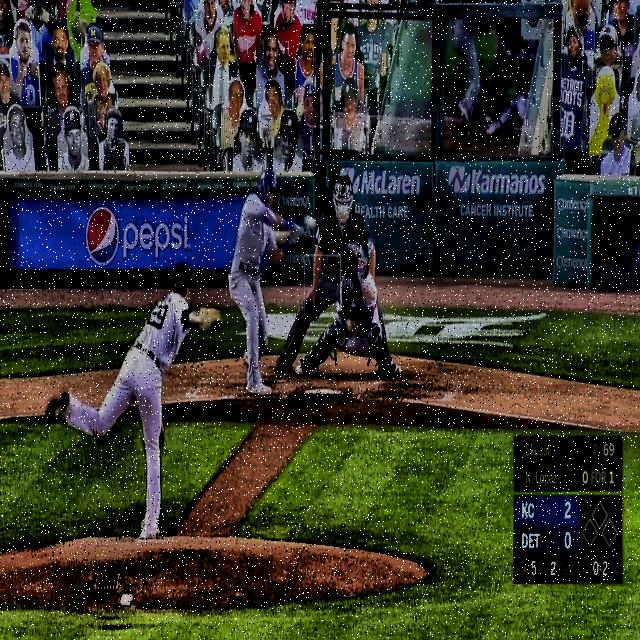baseball: (304, 214, 316, 230)
